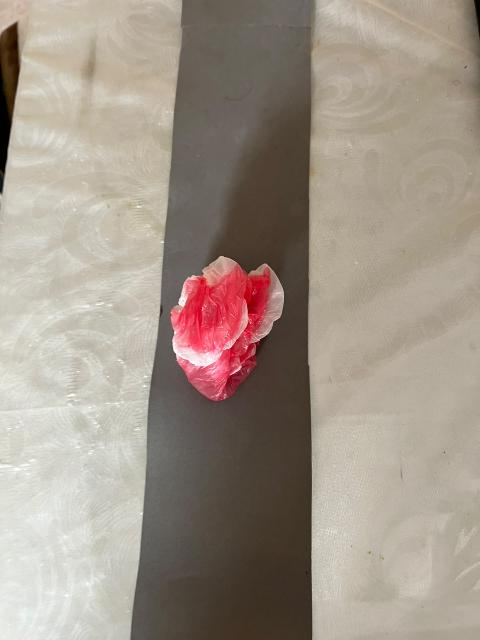LDPE: (149, 231, 317, 428)
